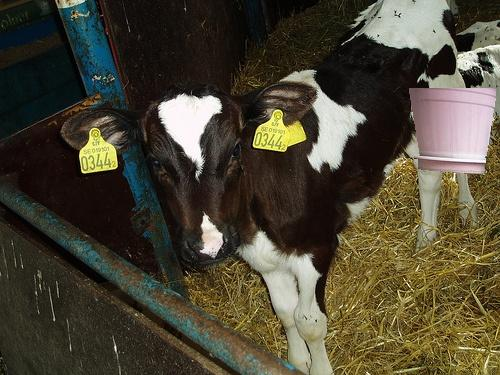tampered: (410, 89, 496, 174)
